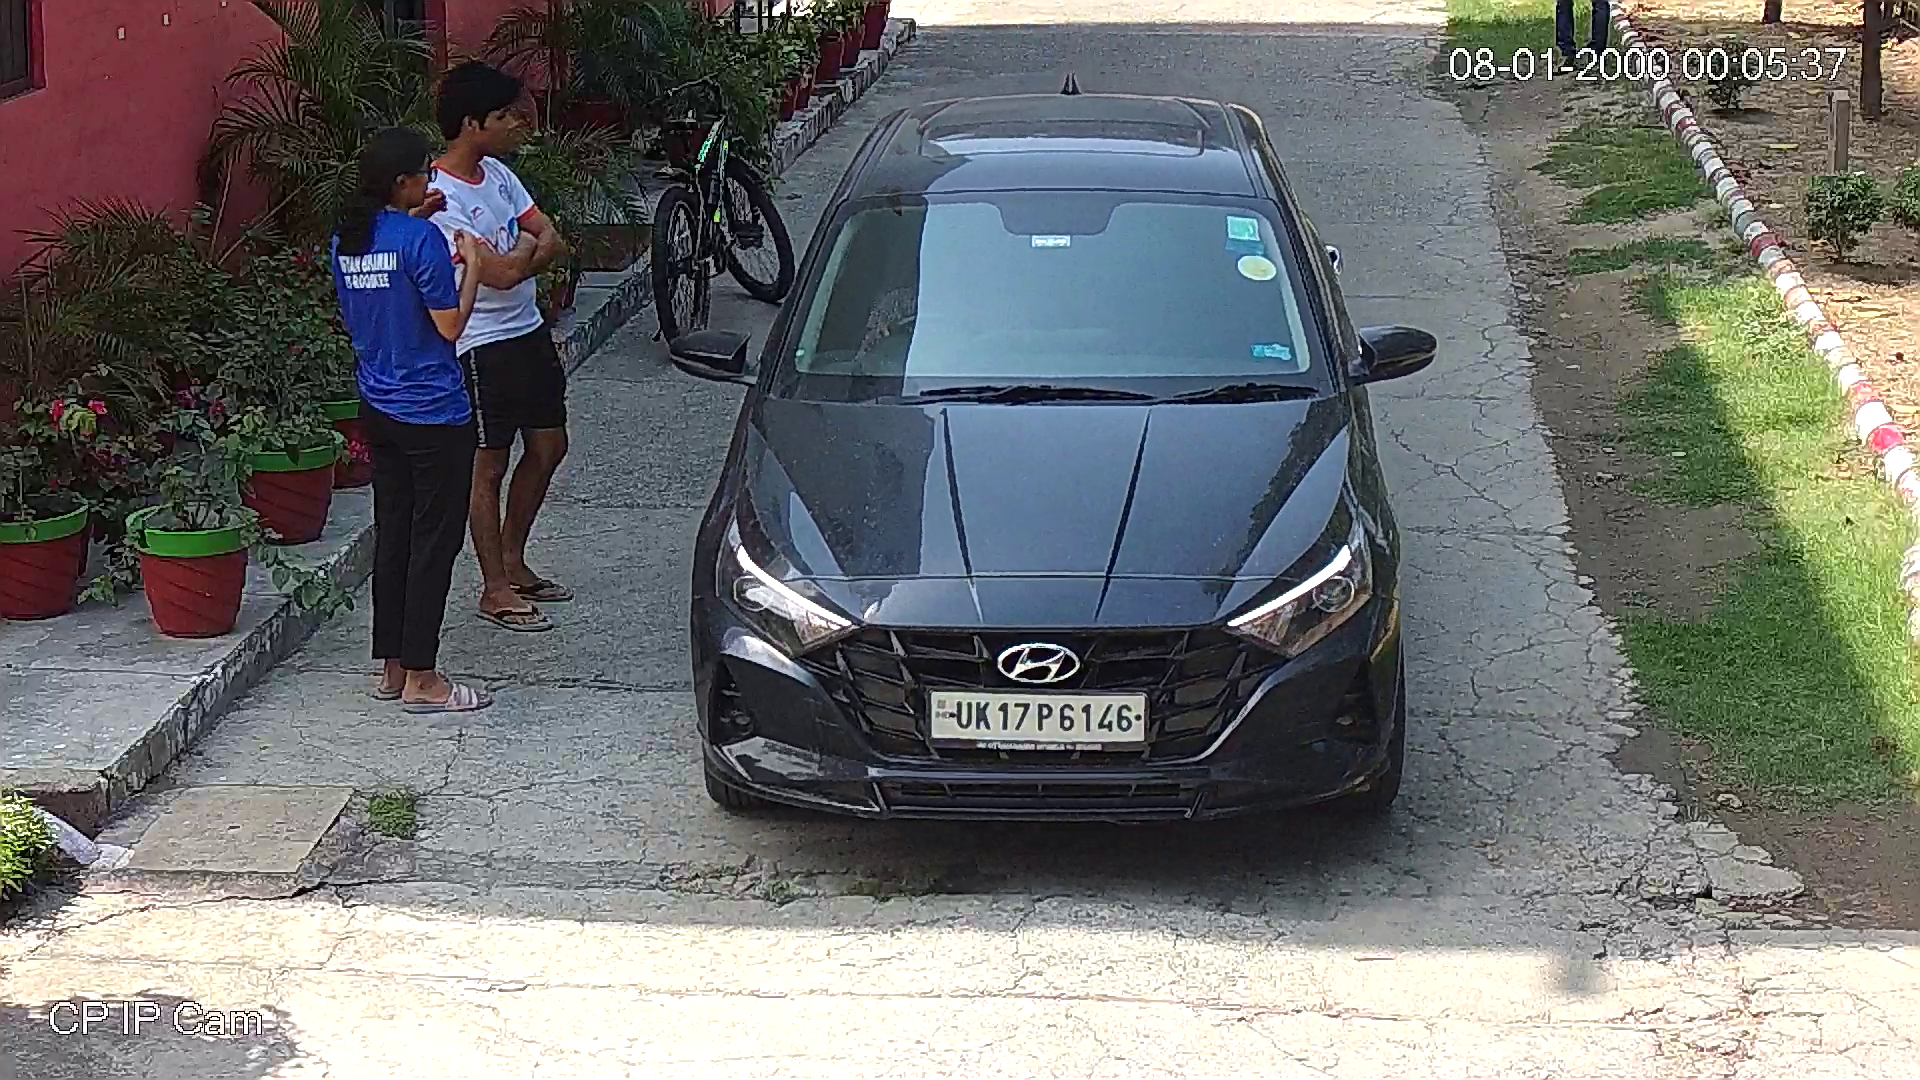plate: (918, 683, 1158, 753), (1097, 810, 1099, 812)
